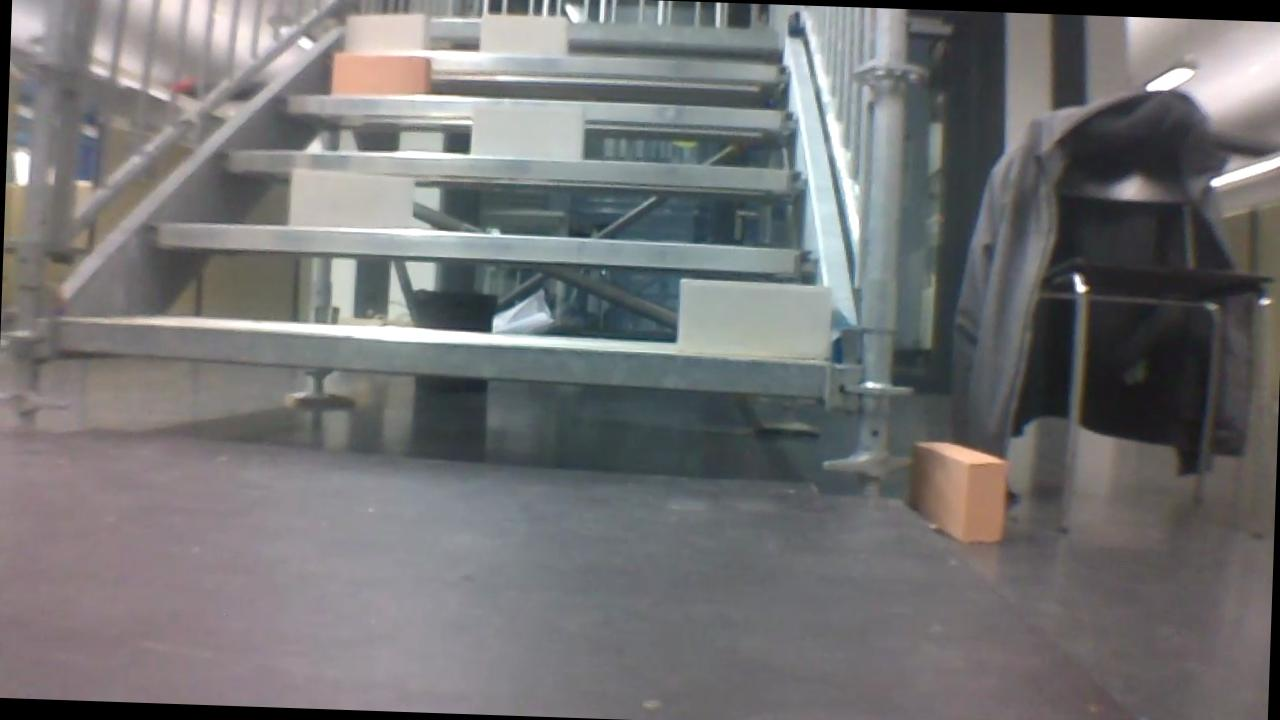brick: (678, 279, 832, 357), (288, 170, 412, 229), (471, 103, 583, 158), (331, 53, 431, 95), (481, 13, 567, 55), (345, 12, 430, 48)
edge: (57, 321, 826, 394), (151, 221, 821, 275), (222, 149, 803, 190), (274, 92, 794, 130), (324, 47, 787, 81), (356, 13, 780, 48)
